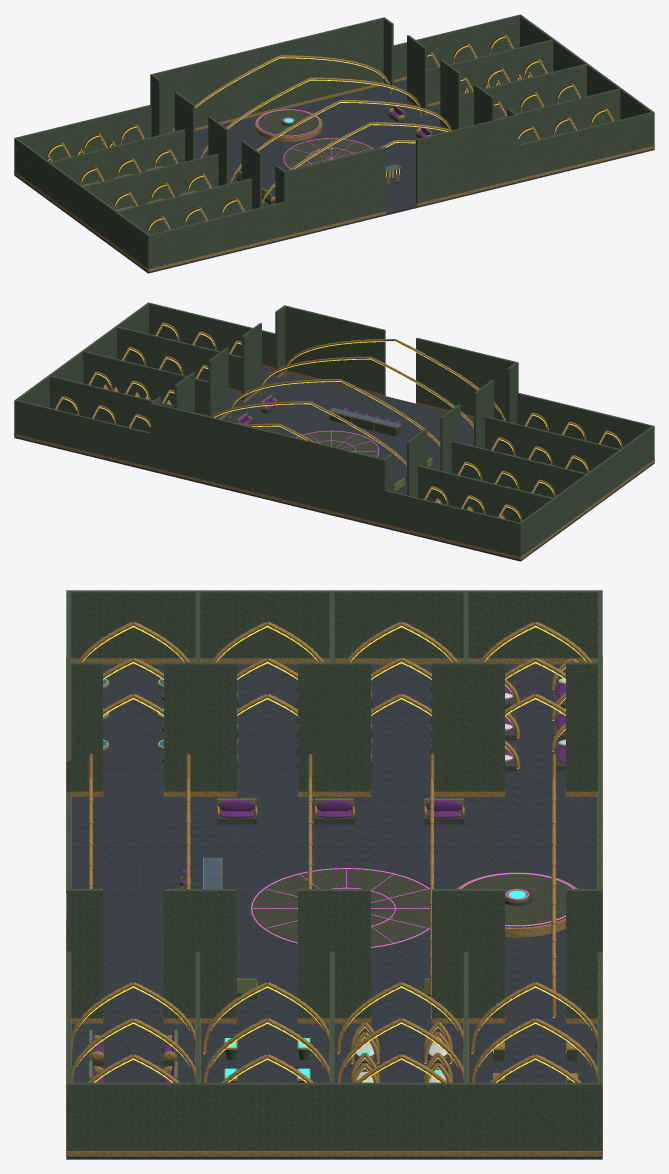
The model's file is Hiveport_complete.glb.
3 views of the same model, one above another, from view 1: azimuth 30°, elevation 25°; view 2: azimuth 150°, elevation 25°; view 3: azimuth 270°, elevation 25° (orthographic). The views are drawn at different scales.
Parts seen in each view (by area): view 1: green black shell panel, graphite plated floor, amber alloy, dark bronze carapace, amber light, UV violet, olive brushed carapace; view 2: green black shell panel, graphite plated floor, amber alloy, dark bronze carapace, amber light; view 3: green black shell panel, graphite plated floor, amber alloy, dark bronze carapace, amber light, violet woven upholstery, UV violet, olive brushed carapace.
Boxes of the visible parts, x1,y1,x2,y2 form: green black shell panel: (14, 14, 654, 269); graphite plated floor: (14, 79, 654, 273); amber alloy: (14, 34, 654, 271); dark bronze carapace: (195, 84, 439, 208); amber light: (48, 36, 605, 230); UV violet: (257, 109, 373, 168); olive brushed carapace: (82, 105, 597, 210); green black shell panel: (14, 302, 654, 557); graphite plated floor: (14, 367, 654, 561); amber alloy: (14, 322, 654, 559); dark bronze carapace: (229, 372, 473, 492); amber light: (63, 324, 620, 518); green black shell panel: (66, 590, 602, 1150); graphite plated floor: (66, 664, 602, 1159); amber alloy: (66, 621, 602, 1156); dark bronze carapace: (72, 666, 596, 1082); amber light: (76, 625, 592, 1082); violet woven upholstery: (92, 683, 565, 1082); UV violet: (251, 868, 574, 947); olive brushed carapace: (89, 798, 463, 1079).
Size of the model in its own units: 96.05 by 12.3 by 44.05.
11 materials, 6 textured.
